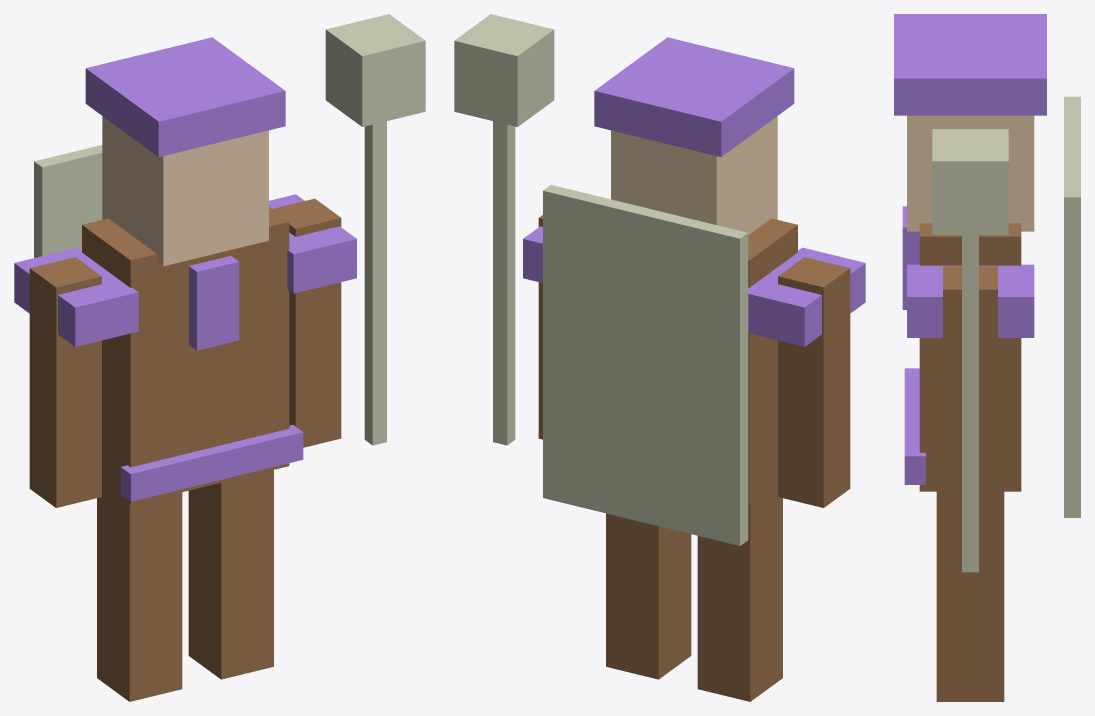
File: 13_edda_echohand_courier_near_summit.glb
3 renders of one model, left to right at view 1: azimuth 30°, elevation 25°; view 2: azimuth 150°, elevation 25°; view 3: azimuth 270°, elevation 25°, orthographic. The views are drawn at different scales.
Visible parts, largest first — view 1: Edda Echohand, Courier near Summit; view 2: Edda Echohand, Courier near Summit; view 3: Edda Echohand, Courier near Summit.
Part boxes in pixels (left/top/right/bottom): Edda Echohand, Courier near Summit: left=14, top=14, right=425, bottom=701; Edda Echohand, Courier near Summit: left=454, top=14, right=865, bottom=701; Edda Echohand, Courier near Summit: left=894, top=14, right=1080, bottom=701.
Size of the model in its own units: 1.04 by 1.62 by 0.4417.
